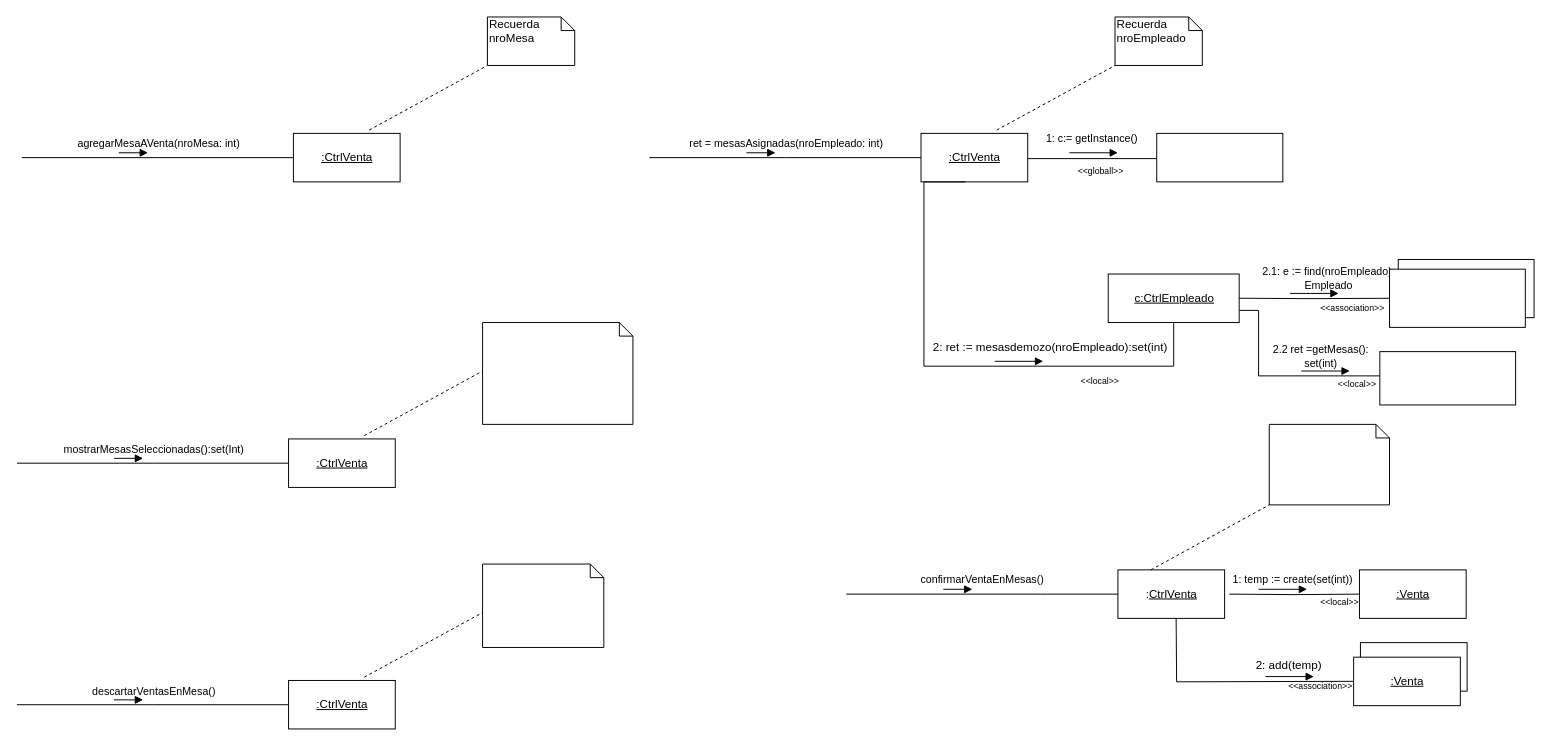
The diagram is 1551 pixels wide and 746 high, and some of its shapes have lost their labels. Here are the shapes that lost their labels. From the top down, the box of each, then its label:
(1156, 132, 1283, 182): CtrlEmpleado
(1389, 268, 1525, 327): :Empleado
(482, 322, 633, 424): El controlador devuelve todos los nroMesa que guardó
(1379, 351, 1516, 405): :Mozo
(1268, 423, 1390, 505): Libera la memoria recordada hasta el momento
(482, 563, 604, 647): Libera toda la memoria recordada hasta el momento
